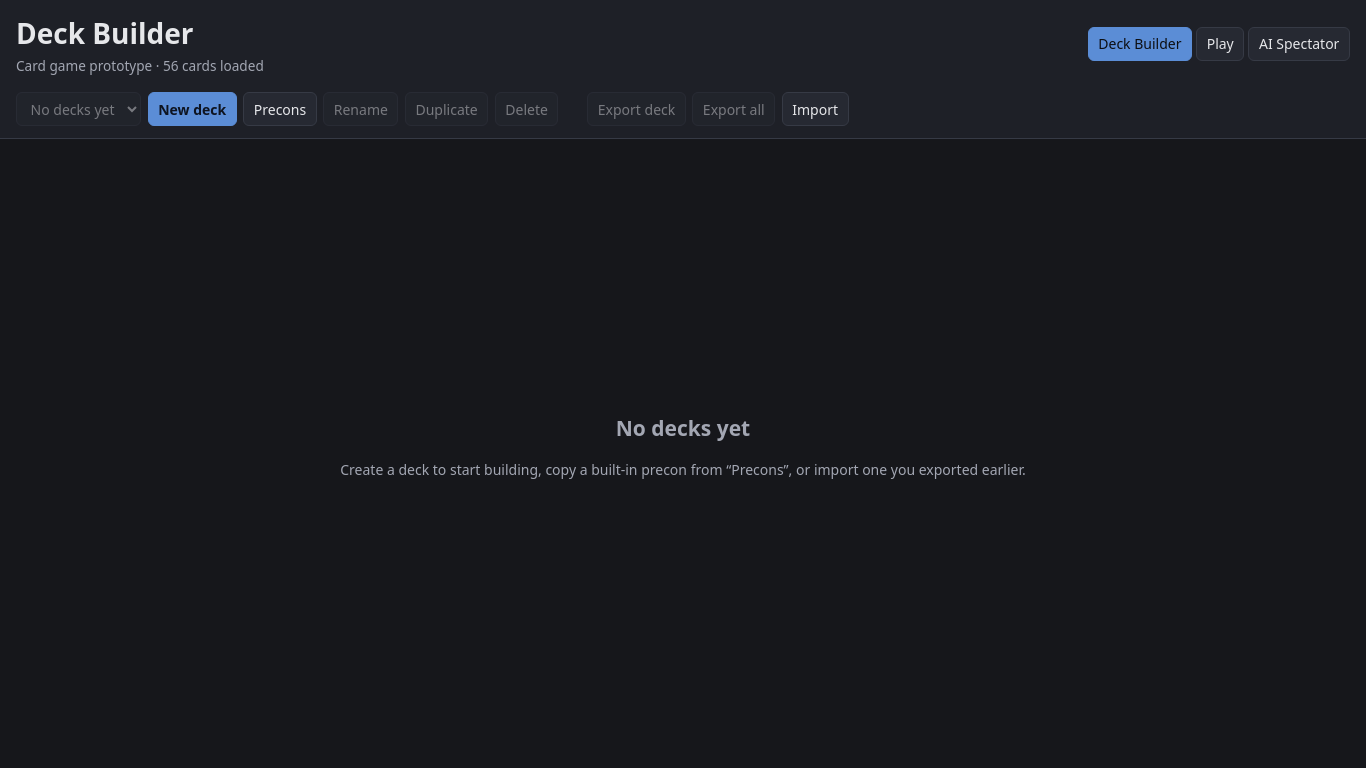
precon browser › does not mix development fixtures into Wave 1
Click the button "Precons": click(280, 109) top-left (243, 92), bottom-right (317, 126)
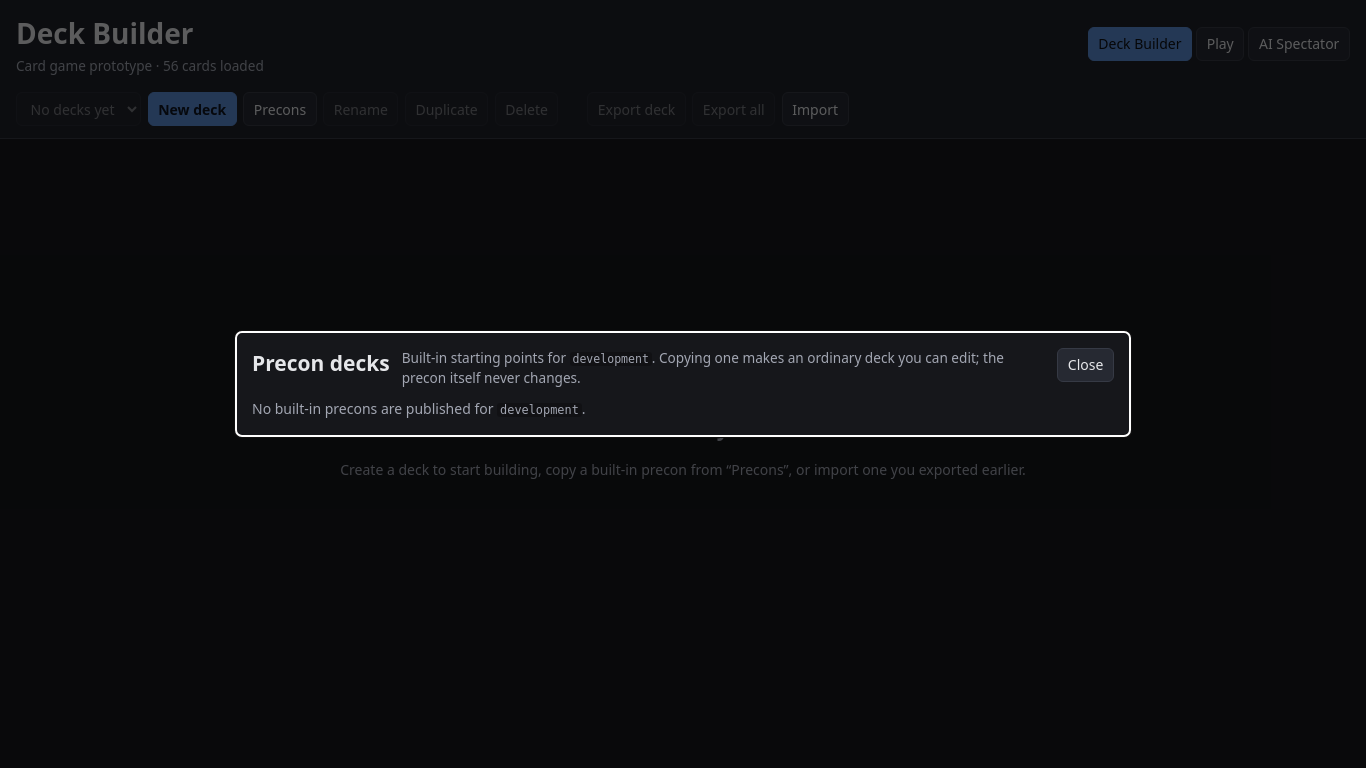
Expected: the text "No built-in precons are published for development." is shown, top-left (252, 399), bottom-right (586, 418)
